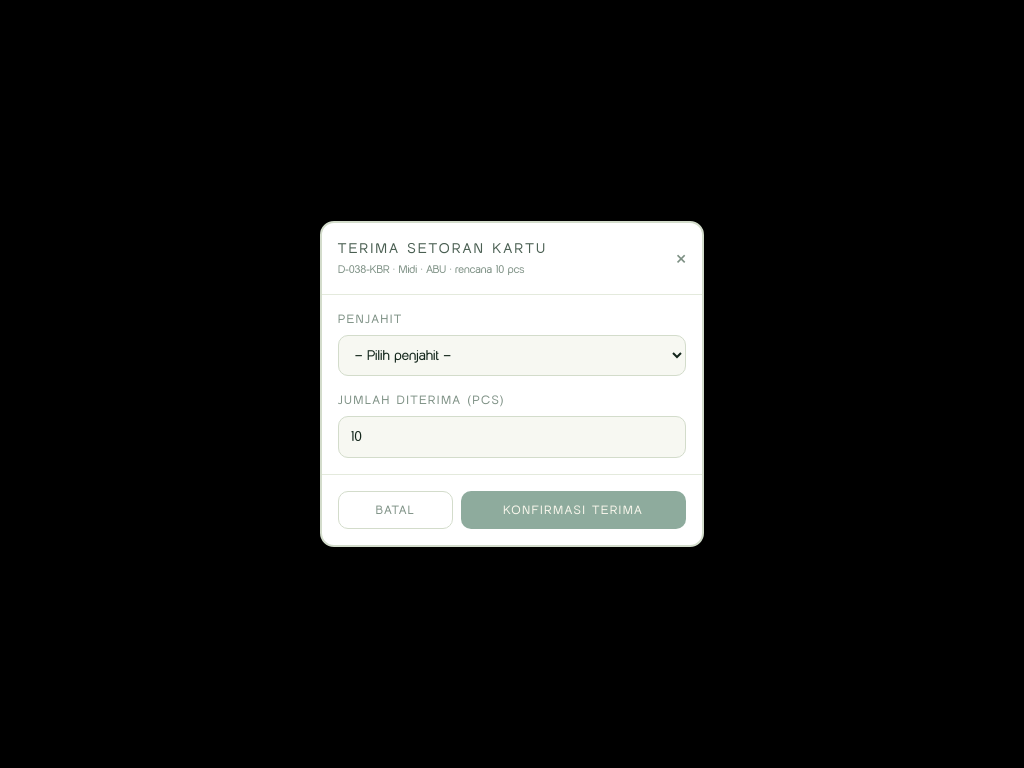
it: ReceiveCardModal › tombol submit disabled sampai penjahit dipilih
This screenshot has width=1024, height=768.
Expected: the button "Konfirmasi Terima" is disabled, [461,491,686,529]
Select "Budi" in the dropdown at (512, 355), box [338,335,686,376]
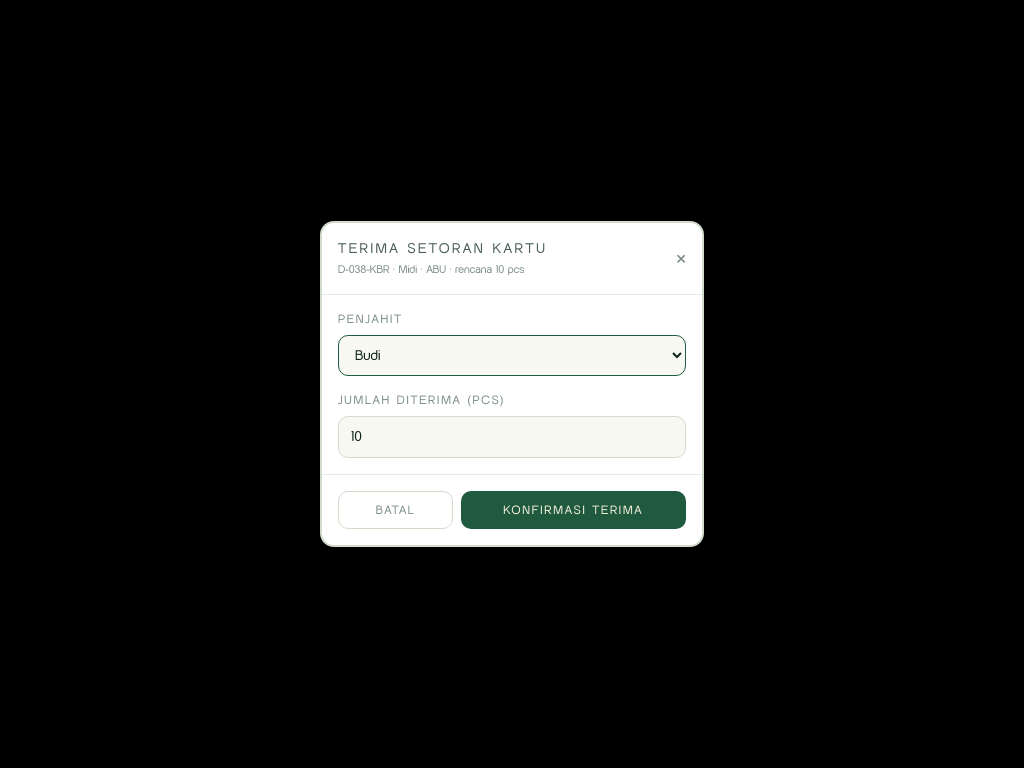
Result: the button "Konfirmasi Terima" is enabled at [461,491,686,529]
